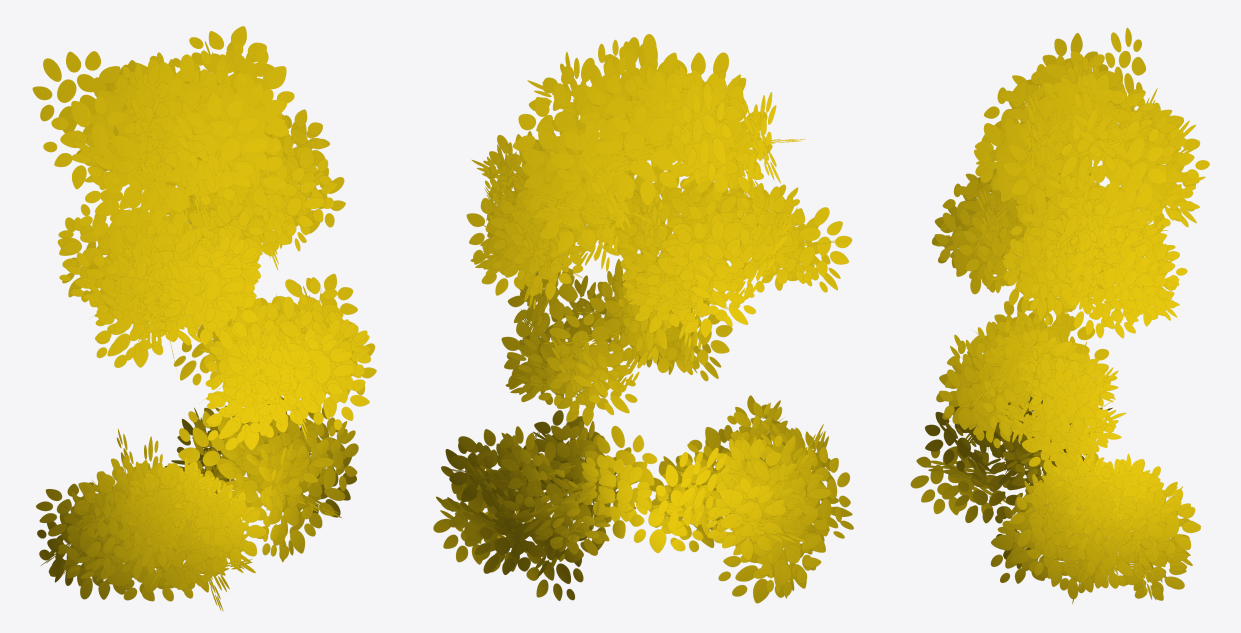
The model's file is tree_birch_a.glb.
3 views of the same model, side by side, from view 1: azimuth 30°, elevation 25°; view 2: azimuth 150°, elevation 25°; view 3: azimuth 270°, elevation 25° (orthographic). The views are drawn at different scales.
Parts seen in each view (by area): view 1: tree_birch_a; view 2: tree_birch_a; view 3: tree_birch_a.
Boxes of the visible parts, bbox=[...] form: tree_birch_a: bbox=[32, 26, 376, 611]; tree_birch_a: bbox=[433, 34, 853, 603]; tree_birch_a: bbox=[910, 27, 1209, 603].
Size of the model in its own units: 3.46 by 5.06 by 2.97.
Materials: 1 (1 with a texture image).
